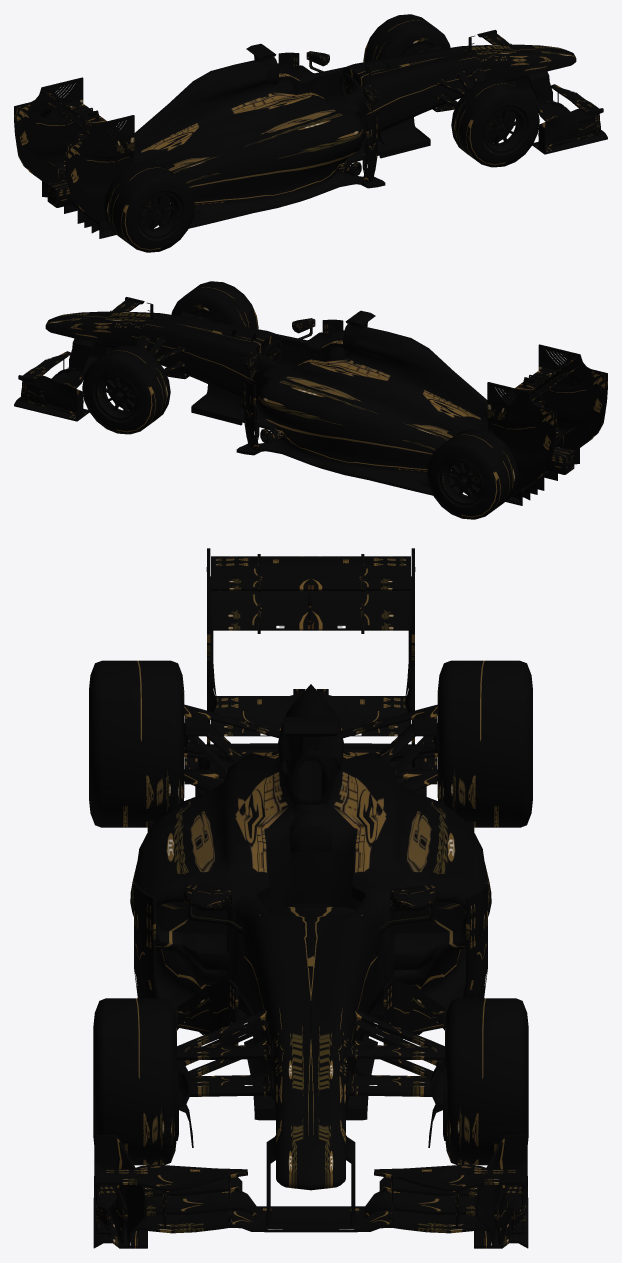
The picture shows the model from 3 angles, top to bottom: view 1: azimuth 30°, elevation 25°; view 2: azimuth 150°, elevation 25°; view 3: azimuth 270°, elevation 25°; orthographic projection. The views are drawn at different scales.
Parts seen in each view (by area): view 1: f1_car_mesh_MF, back_right_wheel, front_right_wheel, front_left_wheel; view 2: f1_car_mesh_MF, back_left_wheel, front_left_wheel, front_right_wheel; view 3: f1_car_mesh_MF, back_left_wheel, back_right_wheel, front_left_wheel, front_right_wheel.
Part boxes in pixels (box(x1,y1,x2,y2)): f1_car_mesh_MF: box(14, 30, 607, 238); back_right_wheel: box(103, 161, 194, 252); front_right_wheel: box(451, 78, 539, 167); front_left_wheel: box(363, 14, 450, 61); f1_car_mesh_MF: box(14, 297, 607, 505); back_left_wheel: box(427, 428, 518, 519); front_left_wheel: box(82, 345, 170, 434); front_right_wheel: box(171, 281, 258, 328); f1_car_mesh_MF: box(93, 548, 528, 1248); back_left_wheel: box(413, 660, 532, 827); back_right_wheel: box(89, 660, 208, 827); front_left_wheel: box(445, 998, 528, 1165); front_right_wheel: box(93, 998, 176, 1165).
Bounding box in the file's own units: 4.59 × 1.03 × 1.65.
1 material, 1 textured.
